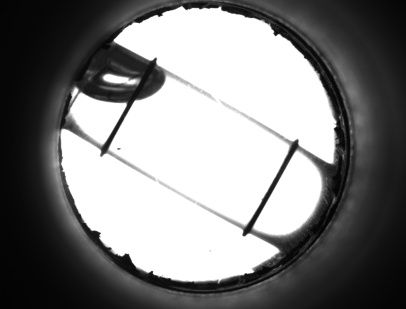line: (247, 162, 292, 219), (103, 110, 131, 138)
